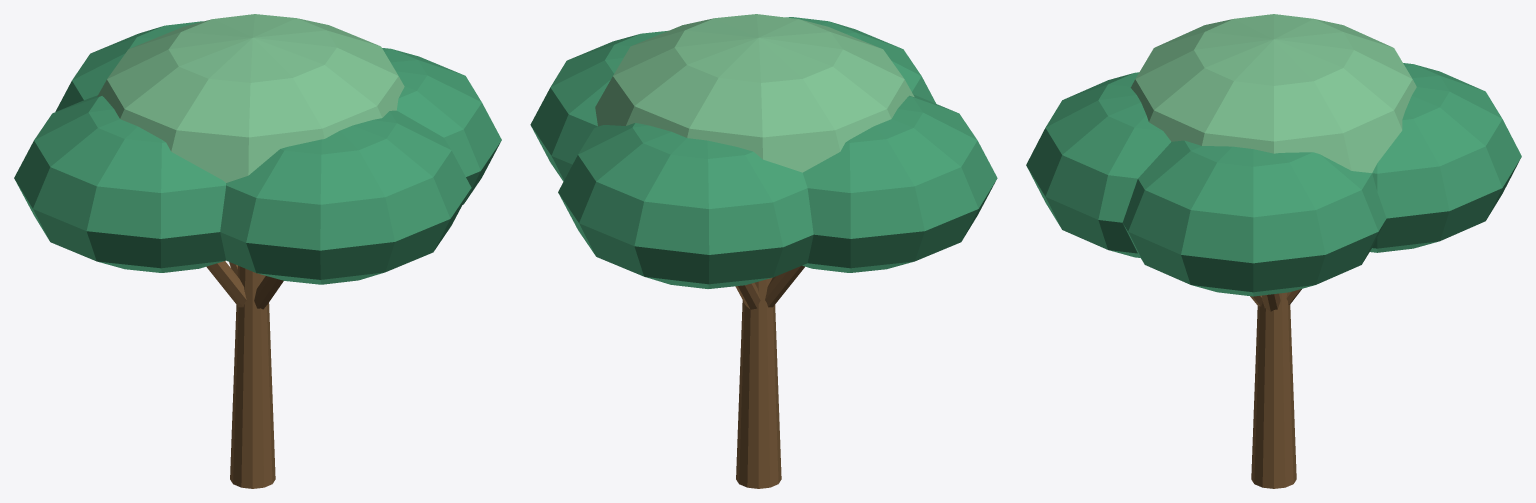
File: PLAZA-021.glb
3 views of the same model, side by side, from view 1: azimuth 30°, elevation 25°; view 2: azimuth 150°, elevation 25°; view 3: azimuth 270°, elevation 25° (orthographic).
Parts seen in each view (by area): view 1: PLAZA-021; view 2: PLAZA-021; view 3: PLAZA-021.
Part boxes in pixels (left/top/right/bottom): PLAZA-021: left=14, top=14, right=501, bottom=488; PLAZA-021: left=530, top=14, right=997, bottom=488; PLAZA-021: left=1026, top=14, right=1521, bottom=488.
Size of the model in its own units: 4.9 by 4.7 by 4.8.
